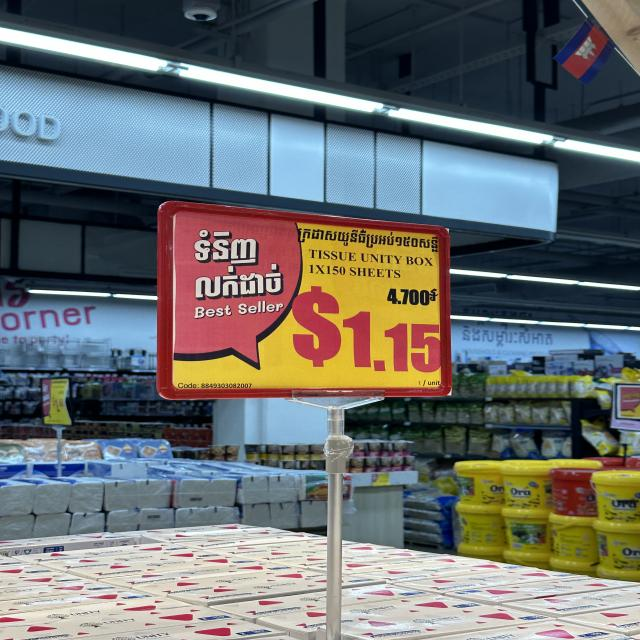746: (378, 280, 444, 306)
98: (286, 285, 444, 373)
Yolov11_80vkh: (290, 224, 442, 257), (183, 227, 263, 272), (183, 265, 283, 301)
